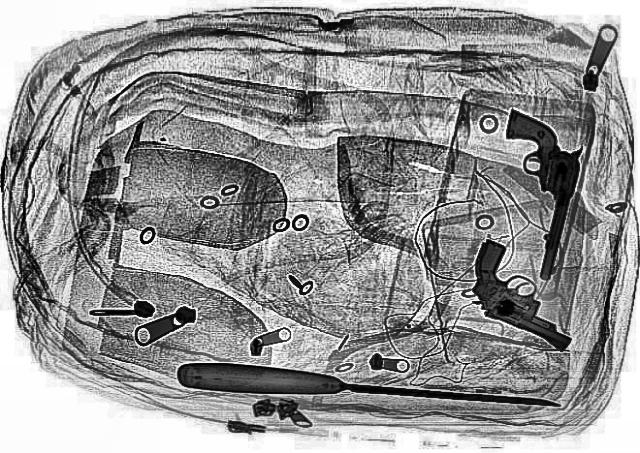Gun: (474, 109, 590, 279), (440, 232, 570, 362)
Knife: (171, 353, 564, 425)
